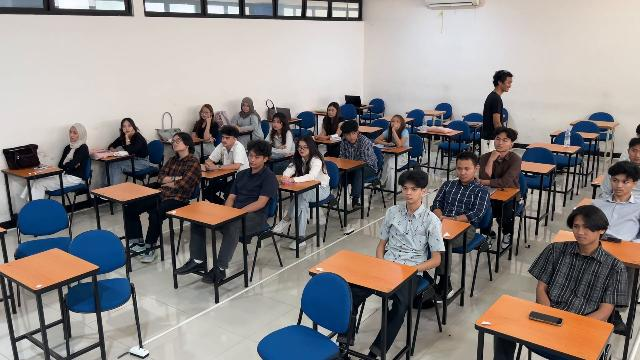fokus: (572, 220, 594, 245), (611, 175, 631, 196), (402, 183, 421, 203), (456, 161, 472, 181), (494, 135, 510, 152), (628, 143, 640, 164), (248, 151, 261, 167), (172, 136, 184, 150), (345, 131, 358, 143), (69, 127, 79, 141), (299, 142, 308, 156), (222, 134, 232, 146), (272, 118, 282, 130), (123, 122, 133, 133), (201, 108, 210, 119), (328, 106, 336, 118), (392, 117, 400, 128), (242, 103, 250, 112)
